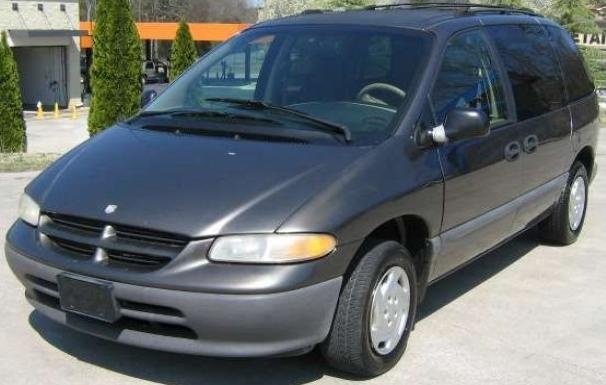front_view: (7, 189, 359, 366)
headlight: (198, 215, 353, 282)
side_glass: (415, 18, 579, 123)
